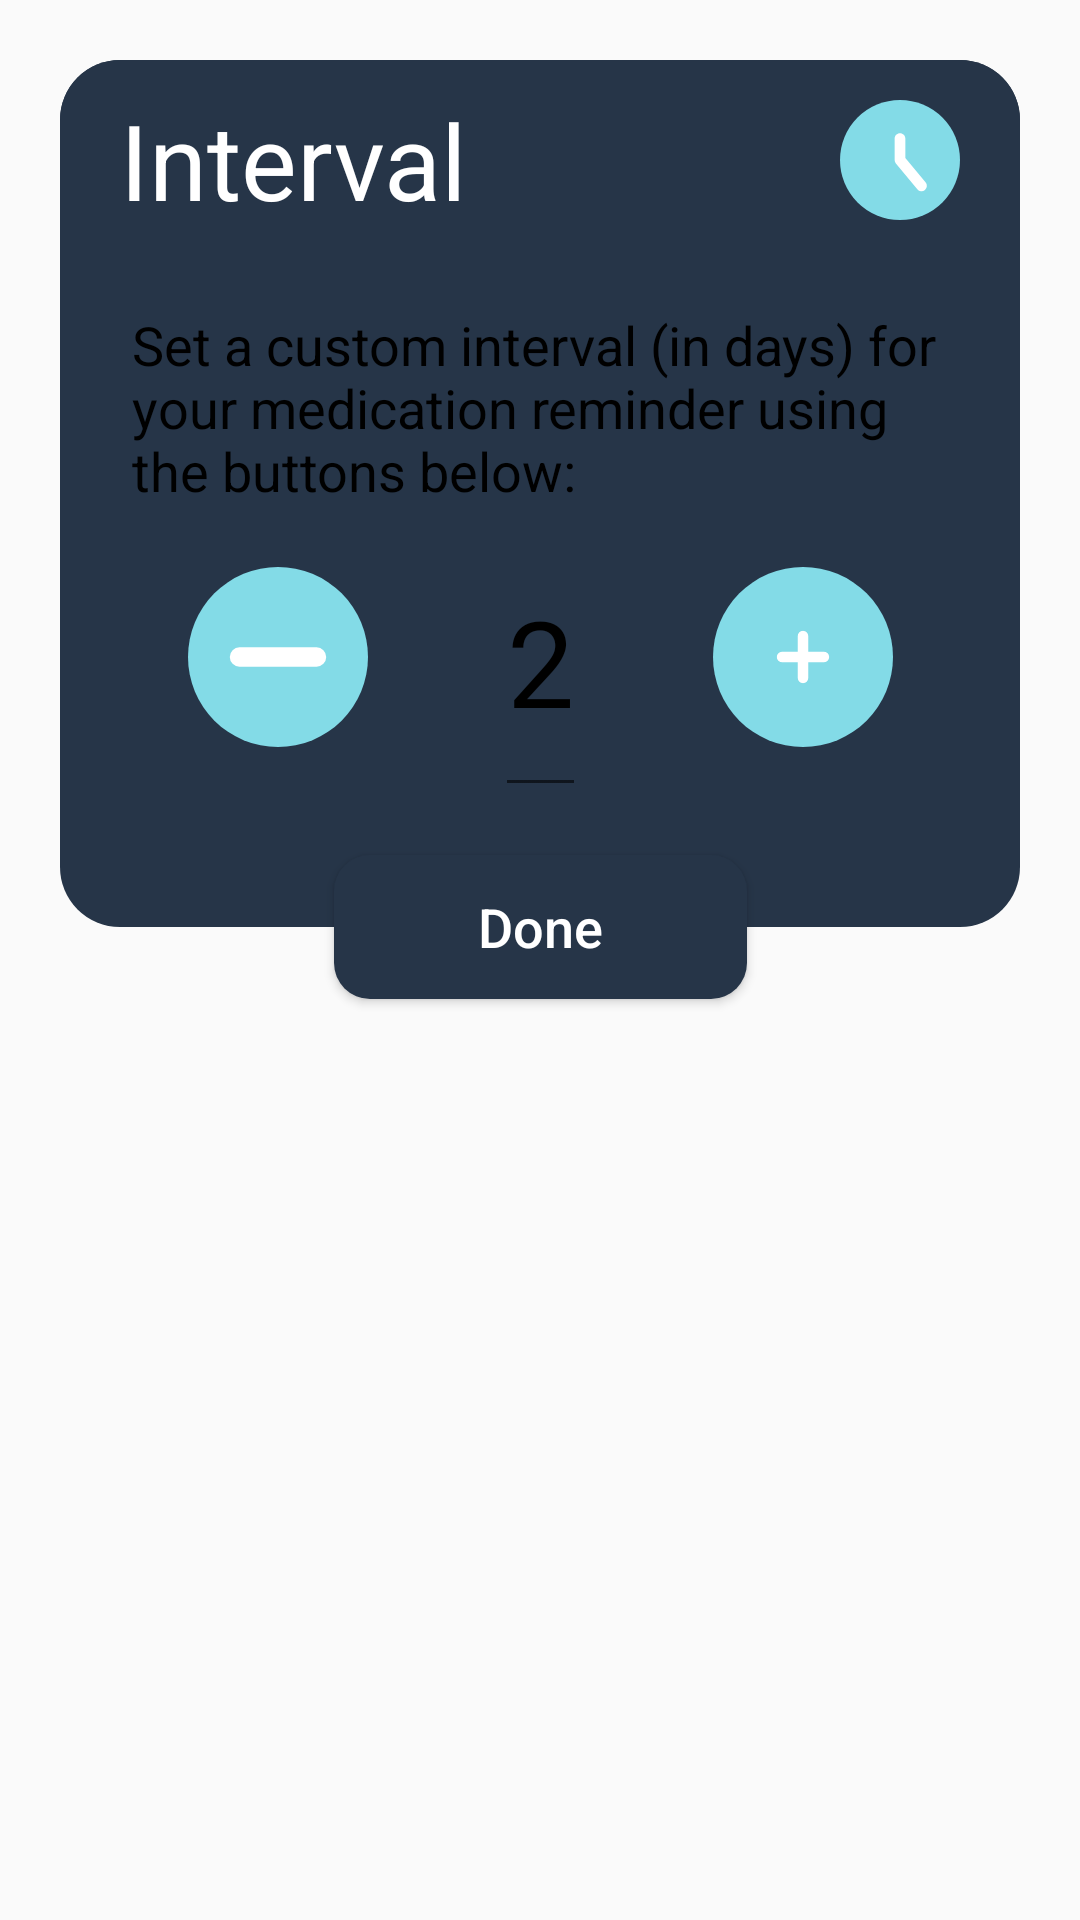

Named icons in this screenshot (1080w x 1920h) and their centers, [x,y]:
Minus Button: [278,657]
